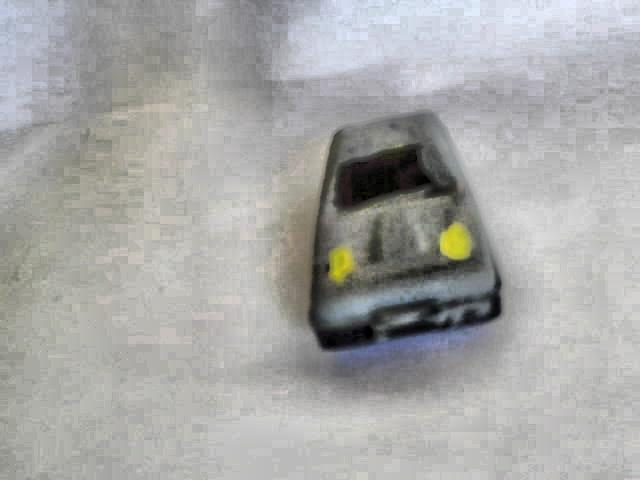normal_car: (306, 104, 506, 361)
